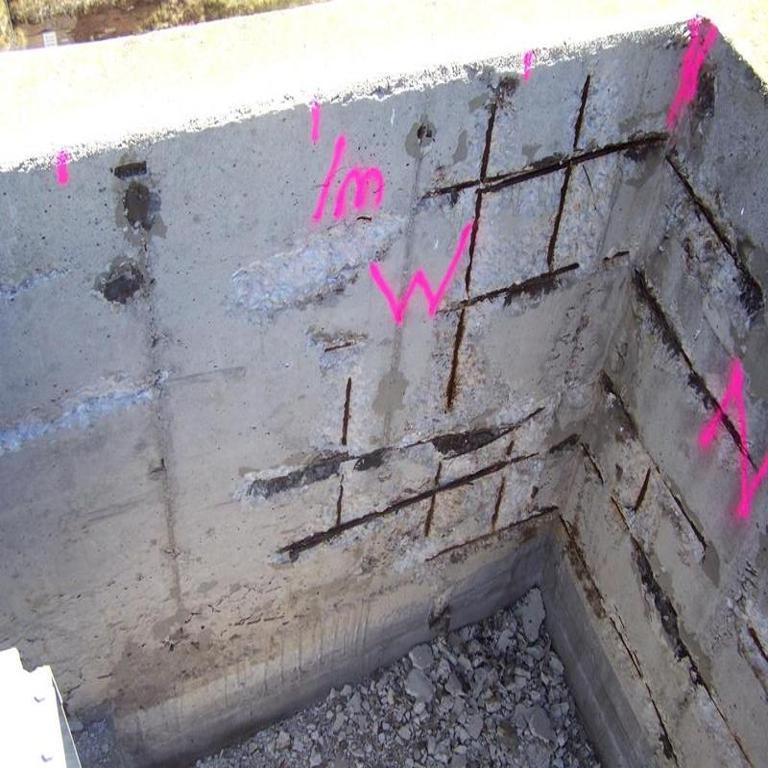exposed_rebar: (423, 75, 668, 292), (276, 440, 536, 562), (238, 410, 542, 499), (633, 268, 760, 479), (440, 262, 578, 409), (667, 156, 764, 320), (632, 540, 704, 683), (494, 477, 506, 530), (342, 378, 351, 443)
spalling: (232, 214, 405, 316), (0, 384, 154, 457), (306, 326, 368, 371), (94, 256, 144, 304), (0, 267, 68, 301), (123, 182, 160, 230)
